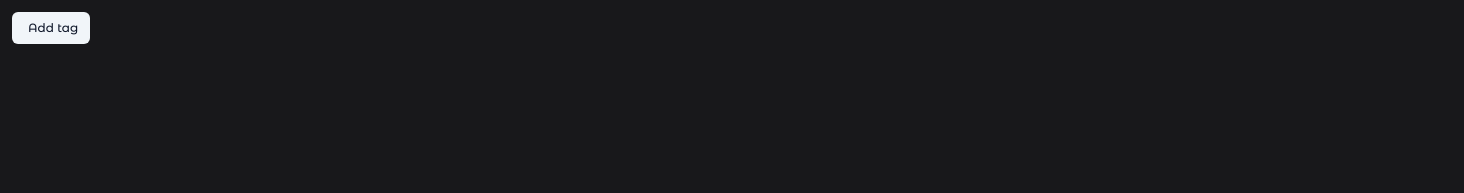
TagPicker › renders a "+ Add tag" trigger that reveals the inline input form
The width and height of the screenshot is (1464, 193).
Expected: the field labelled "name" is not shown
Step 1. Click the button "Add tag" → (51, 28), box left=12, top=12, right=90, bottom=44
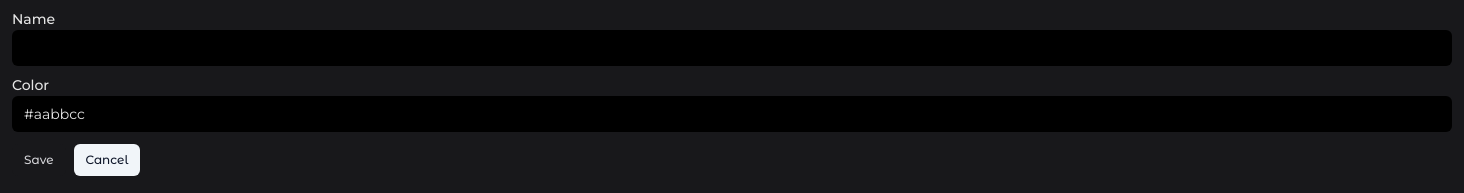
Expected: the field labelled "Name" is shown, left=12, top=30, right=1452, bottom=66
Expected: the field labelled "Color" is shown, left=12, top=96, right=1452, bottom=132
